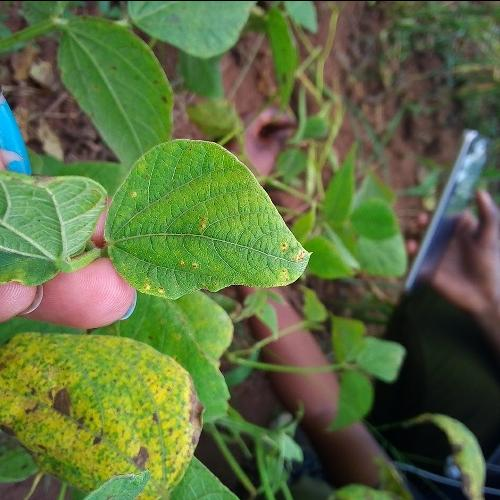mozaik: (124, 170, 248, 281)
